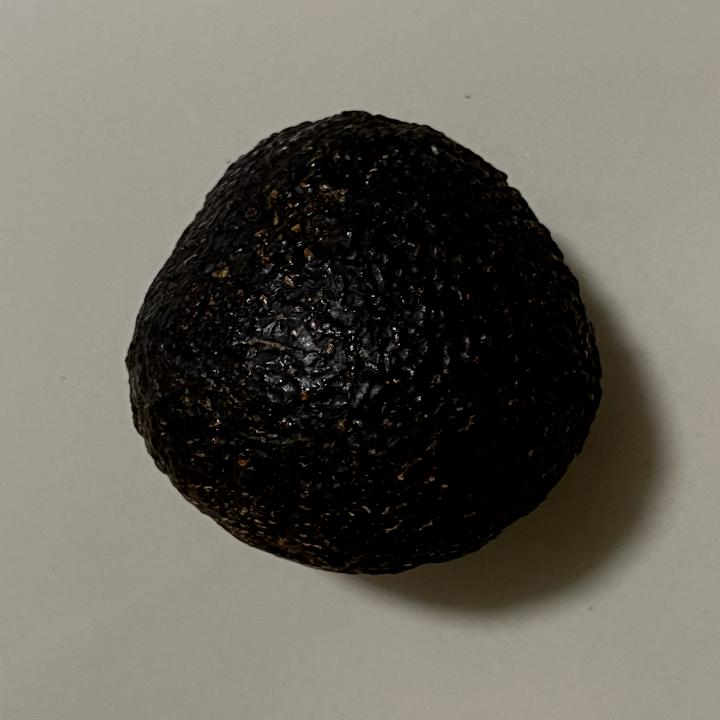Level3: (112, 100, 618, 582)
